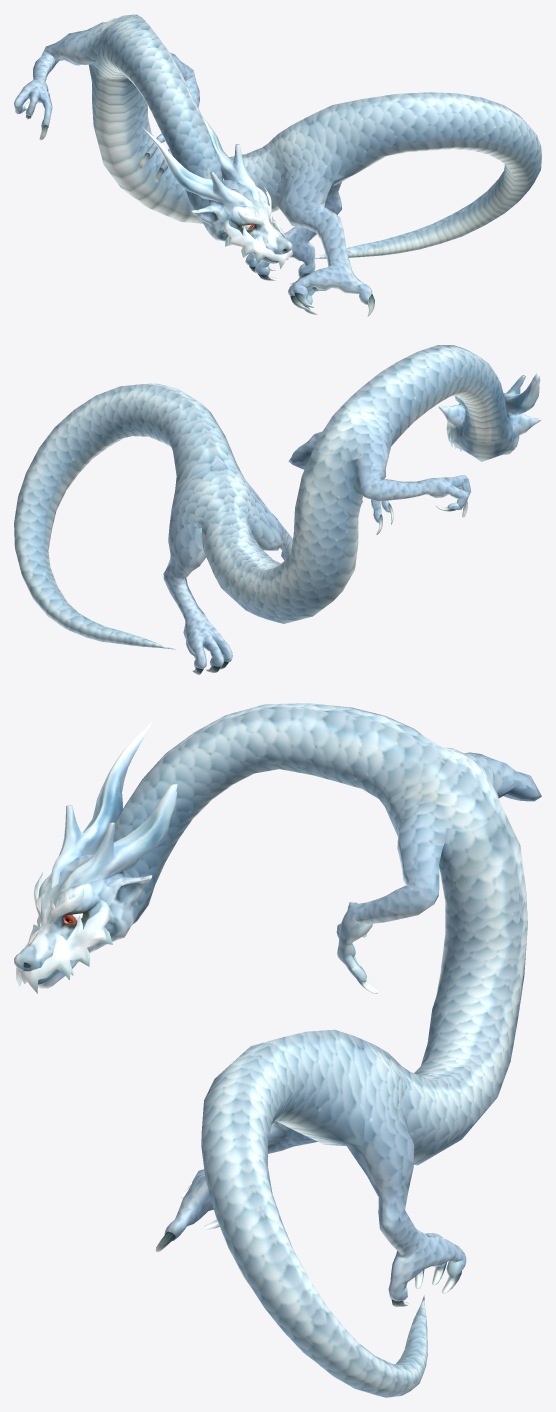
Rendered from dragon2.gltf.
The picture shows the model from 3 angles, top to bottom: view 1: azimuth 30°, elevation 25°; view 2: azimuth 150°, elevation 25°; view 3: azimuth 270°, elevation 25°; orthographic projection. The views are drawn at different scales.
Visible parts, largest first — view 1: Dragon_body_Dragon_Body_0; view 2: Dragon_body_Dragon_Body_0; view 3: Dragon_body_Dragon_Body_0.
Boxes of the visible parts, left/top/right/bottom form: Dragon_body_Dragon_Body_0: left=14, top=14, right=541, bottom=316; Dragon_body_Dragon_Body_0: left=14, top=345, right=541, bottom=674; Dragon_body_Dragon_Body_0: left=14, top=703, right=541, bottom=1397.
Bounding box in the file's own units: 31.01 × 19.88 × 20.19.
1 material, 1 textured.
